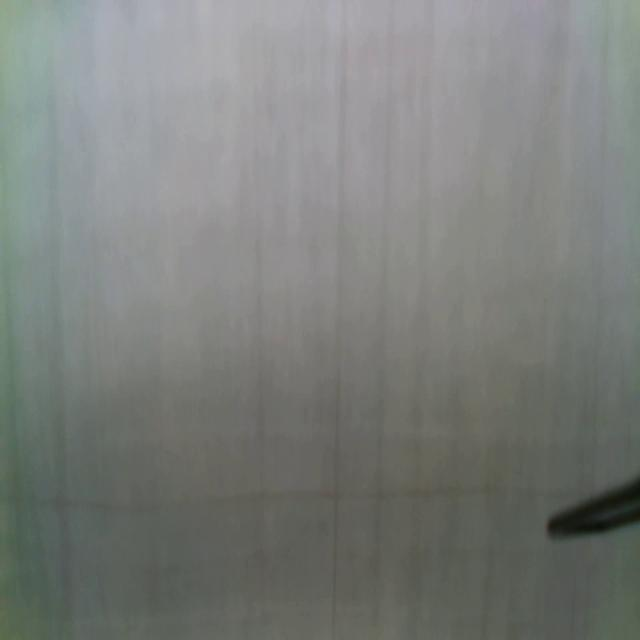color bleeding: (0, 475, 550, 519)
